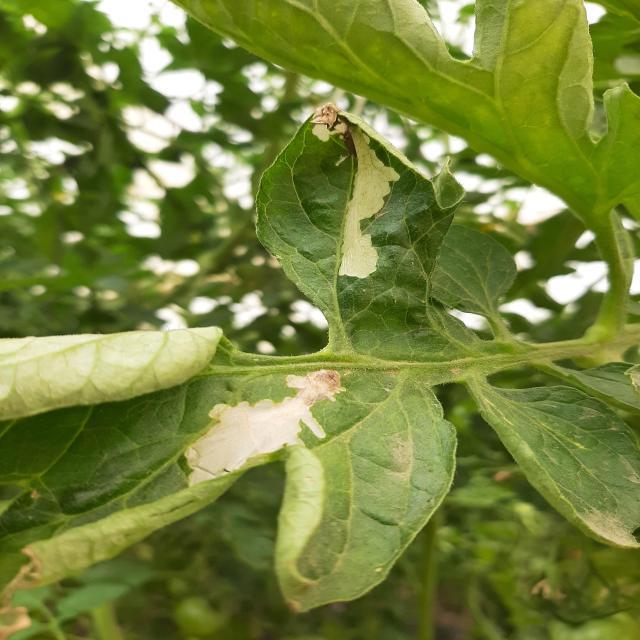Tuta absoluta: (166, 359, 358, 487), (339, 127, 403, 281)
